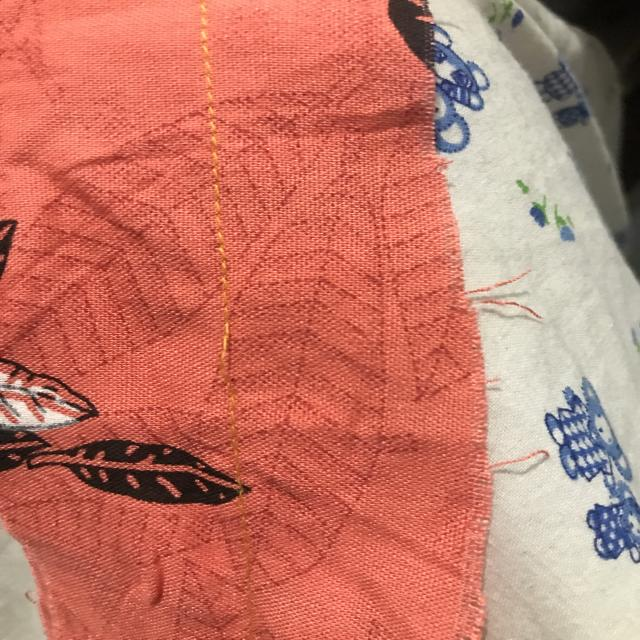good: (188, 128, 238, 260)
skip: (185, 303, 282, 422)
